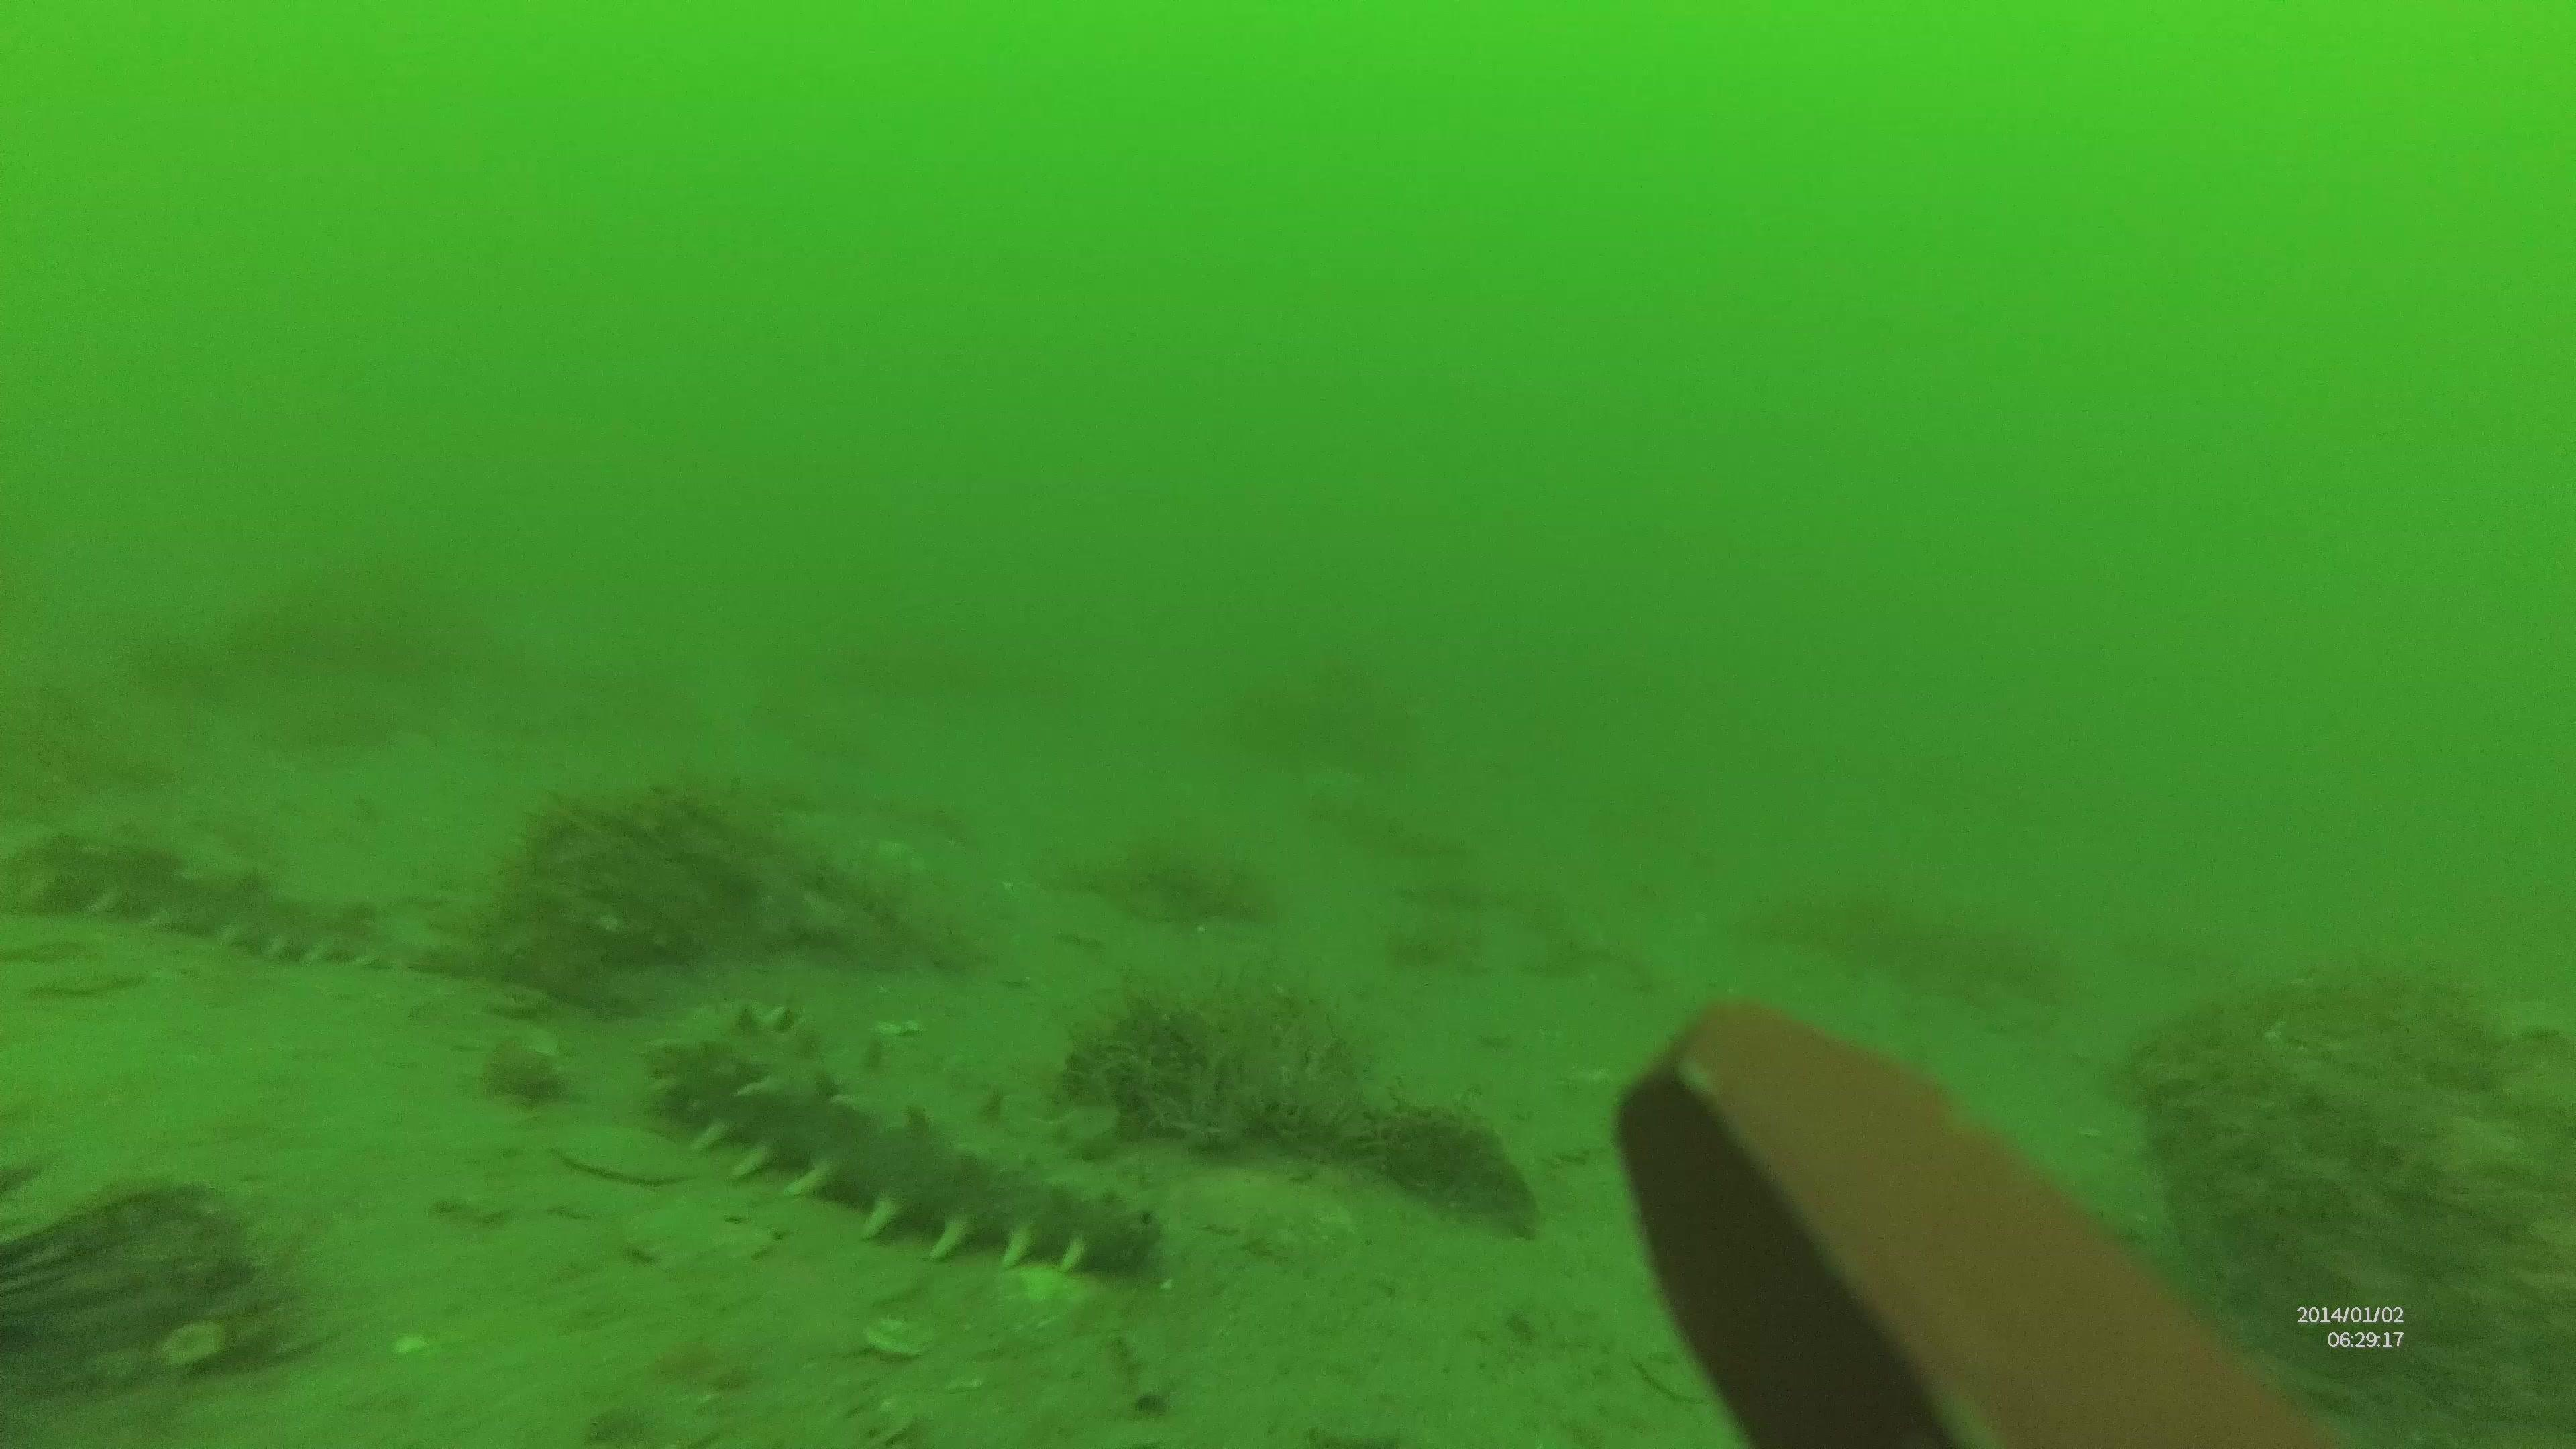holothurian: (653, 996, 1171, 1283), (0, 816, 451, 984)
scallop: (619, 1203, 780, 1272), (561, 1122, 690, 1189)
